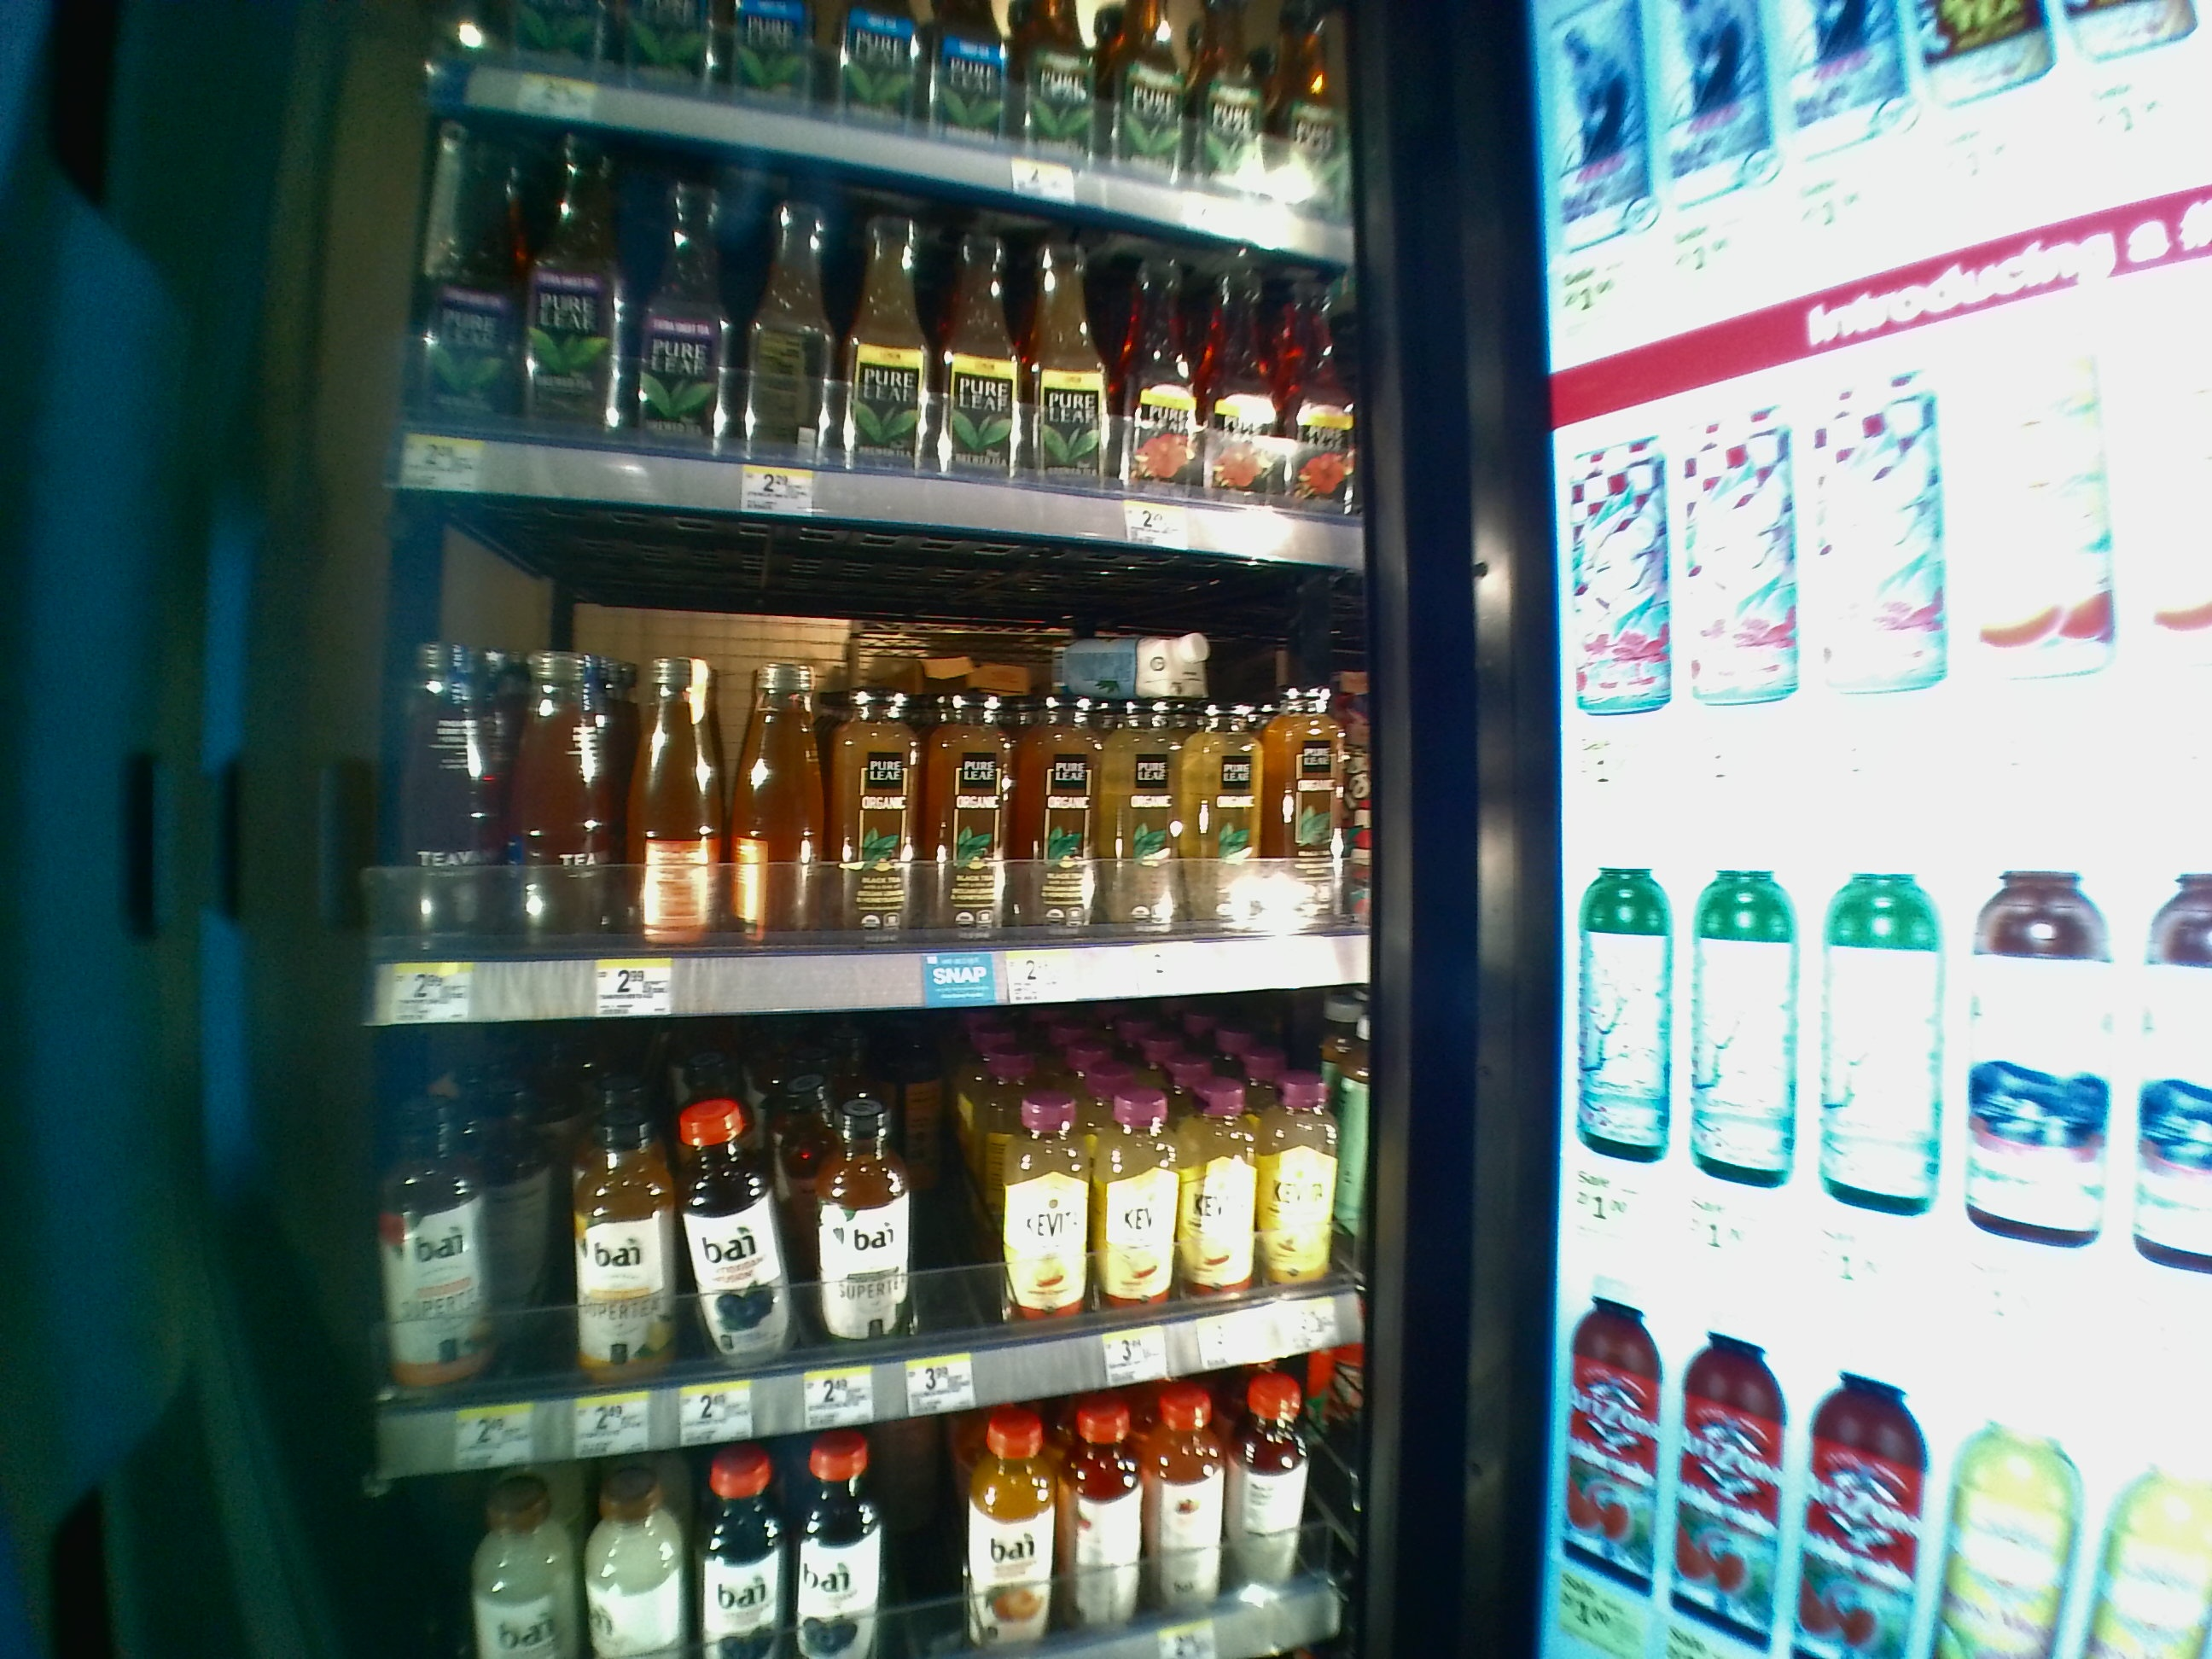shelf: (364, 507, 1378, 1025), (354, 1037, 1374, 1480)
